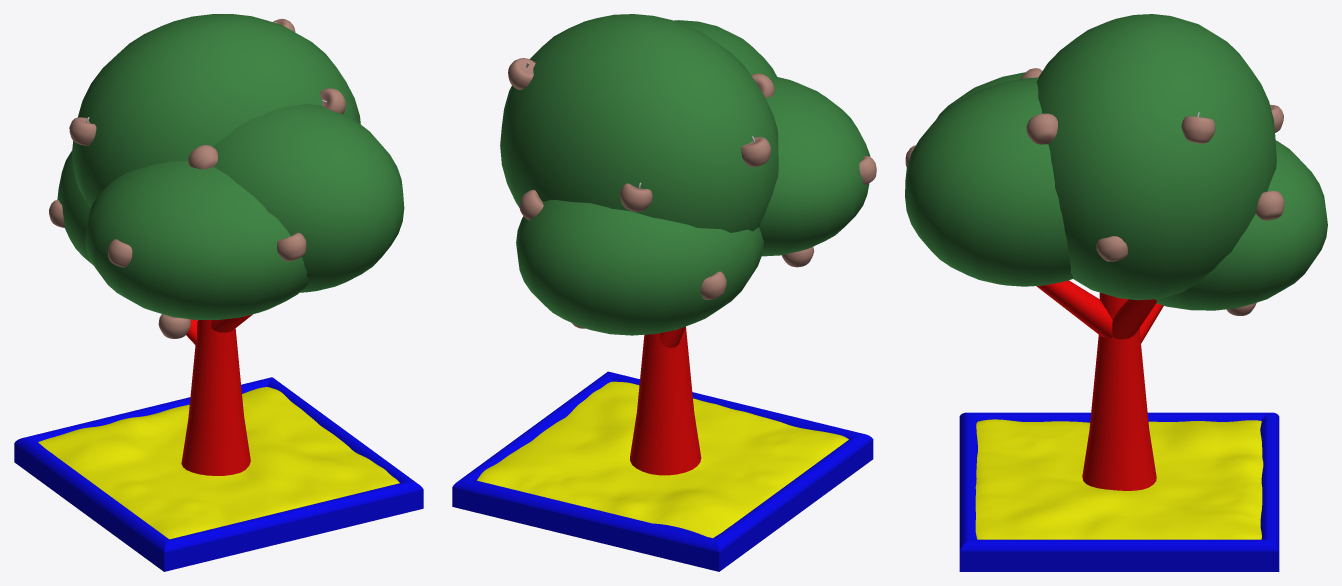
The model's file is Stage_4.fbx.
3 renders of one model, left to right at view 1: azimuth 30°, elevation 25°; view 2: azimuth 150°, elevation 25°; view 3: azimuth 270°, elevation 25°, orthographic. The views are drawn at different scales.
Visible parts, largest first — view 1: pSphere3, pasted__pasted__Bed_HPdirt, pSphere4, pSphere2, pasted__pasted__baseBed_HP, Apple_Tree, Base (×4), pSphere5, Apple:Base; view 2: pSphere3, pasted__pasted__Bed_HPdirt, pSphere5, pasted__pasted__baseBed_HP, pSphere4, Apple_Tree, Base (×4), pSphere2; view 3: pSphere3, pasted__pasted__Bed_HPdirt, pSphere2, pasted__pasted__baseBed_HP, pSphere5, Apple_Tree, Base (×4), Branch4, Branch5.
Part boxes in pixels (<box>): pSphere3: <box>72,14,360,208</box>; pasted__pasted__Bed_HPdirt: <box>38,387,399,539</box>; pSphere4: <box>85,160,308,319</box>; pSphere2: <box>213,104,404,292</box>; pasted__pasted__baseBed_HP: <box>14,377,423,571</box>; Apple_Tree: <box>181,320,250,475</box>; Base (×4): <box>69,117,306,338</box>; pSphere5: <box>57,150,92,264</box>; Apple:Base: <box>107,239,132,267</box>; pSphere3: <box>500,14,778,232</box>; pasted__pasted__Bed_HPdirt: <box>477,381,848,537</box>; pSphere5: <box>516,199,763,335</box>; pasted__pasted__baseBed_HP: <box>452,371,873,571</box>; pSphere4: <box>758,76,870,256</box>; Apple_Tree: <box>630,326,701,475</box>; Base (×4): <box>508,58,770,299</box>; pSphere2: <box>674,20,776,78</box>; pSphere3: <box>1036,14,1276,300</box>; pasted__pasted__Bed_HPdirt: <box>975,419,1263,539</box>; pSphere2: <box>905,77,1073,286</box>; pasted__pasted__baseBed_HP: <box>959,412,1279,571</box>; pSphere5: <box>1156,140,1327,310</box>; Apple_Tree: <box>1082,292,1156,490</box>; Base (×4): <box>1026,113,1284,261</box>; Branch4: <box>1036,280,1113,337</box>; Branch5: <box>1112,299,1156,339</box>.
Bounding box in the file's own units: 4.85 × 7.01 × 5.61.
